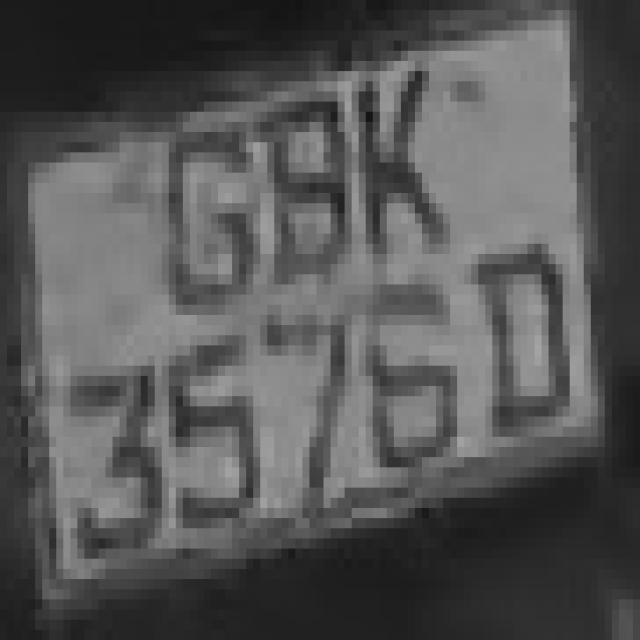3: (28, 345, 176, 579)
5: (155, 315, 274, 538)
6: (331, 233, 464, 478)
7: (246, 264, 366, 549)
B: (246, 71, 359, 295)
D: (478, 223, 570, 468)
G: (141, 91, 260, 305)
K: (331, 51, 464, 254)
